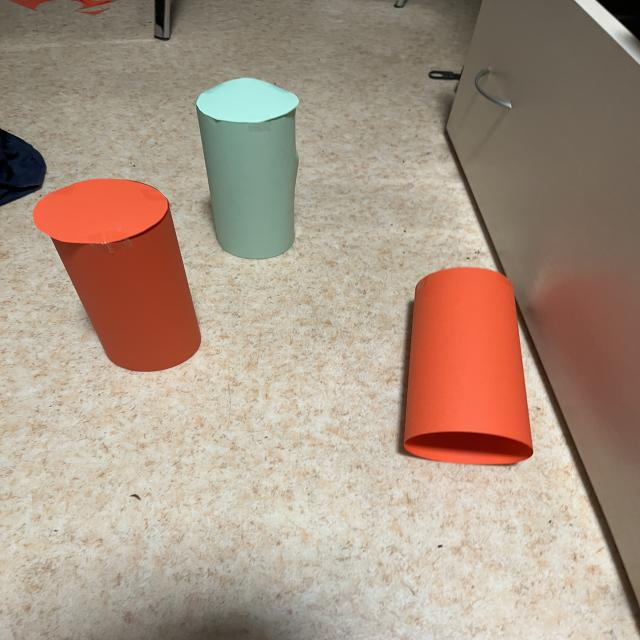meta: (196, 78, 299, 258), (125, 277, 130, 282)
przeszkoda: (33, 179, 201, 371), (404, 267, 533, 464)
